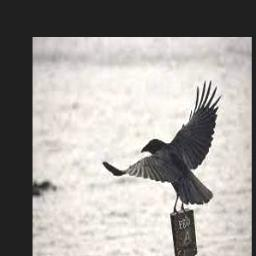Crow: (102, 79, 222, 212)
